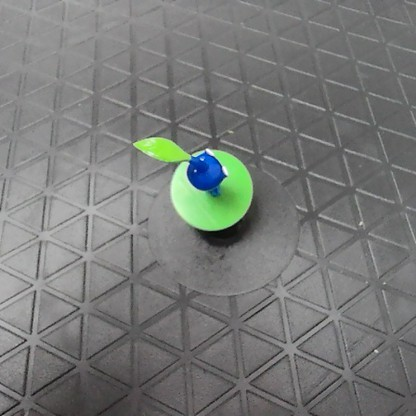leafairy: (129, 130, 256, 238)
